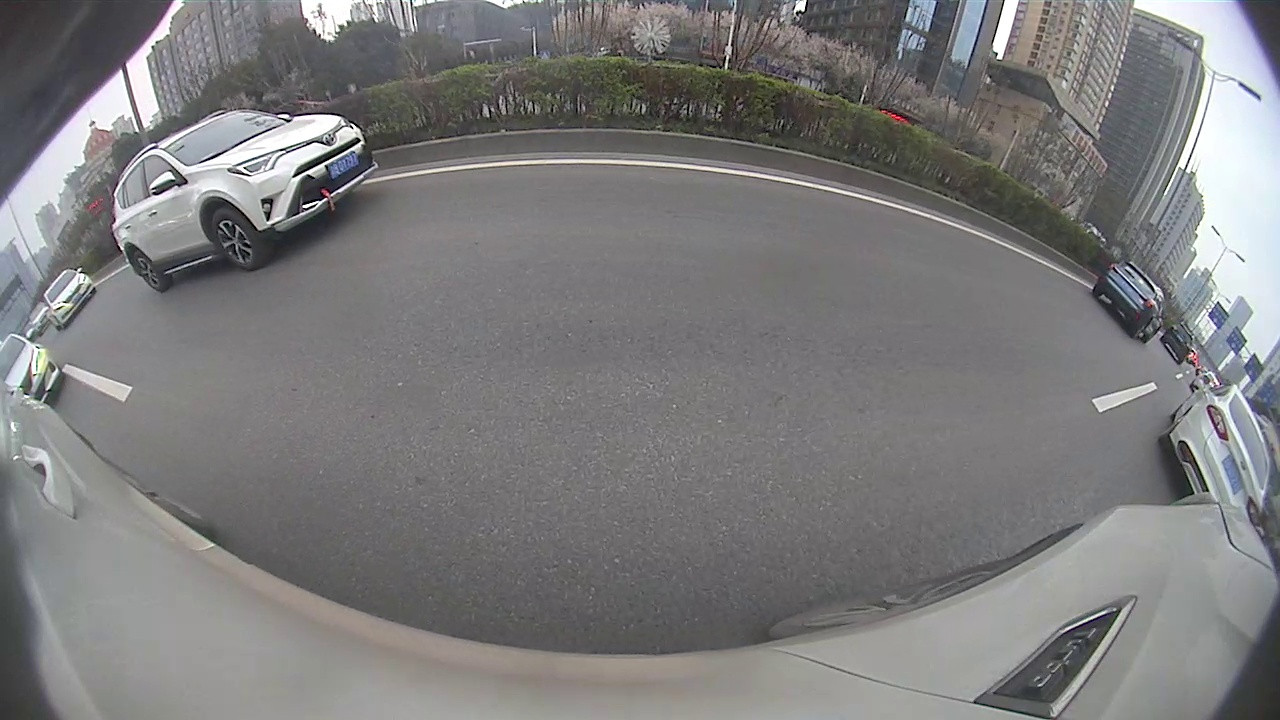car: (900, 138, 1279, 425), (369, 165, 492, 228), (538, 151, 610, 203), (653, 162, 671, 178)
front: (898, 211, 946, 270), (481, 185, 494, 208)
rear: (1112, 318, 1200, 422), (429, 195, 452, 224)
